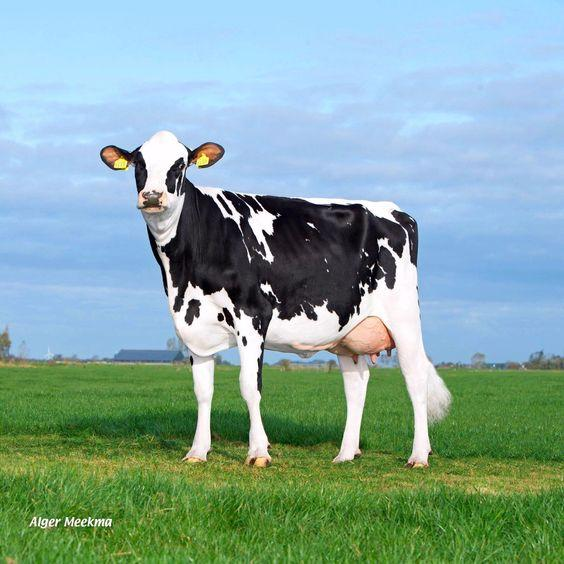cow: (83, 75, 480, 465)
